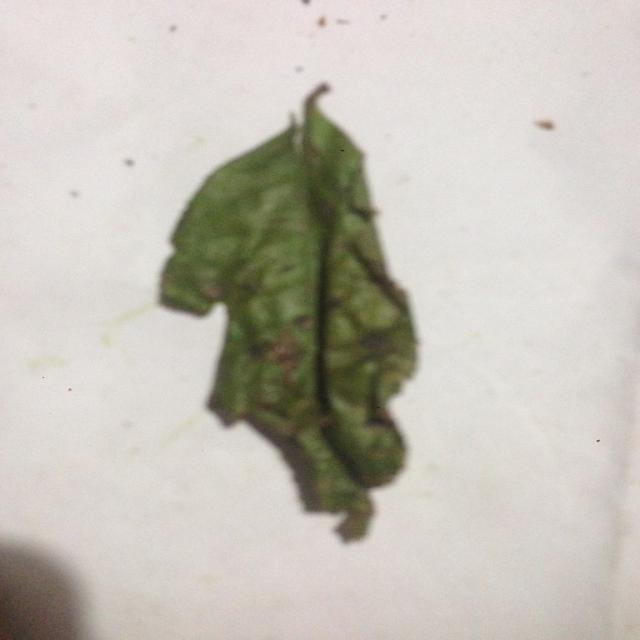Red Leaf Spot: (128, 68, 446, 550)
